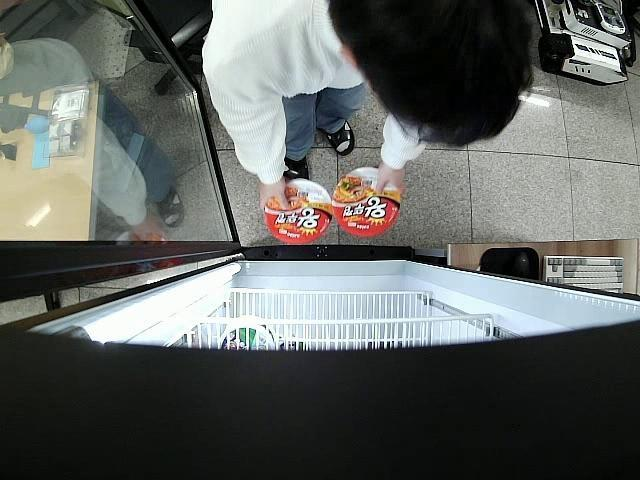10_wangTtukkeong: (331, 166, 402, 238), (266, 179, 331, 244)
